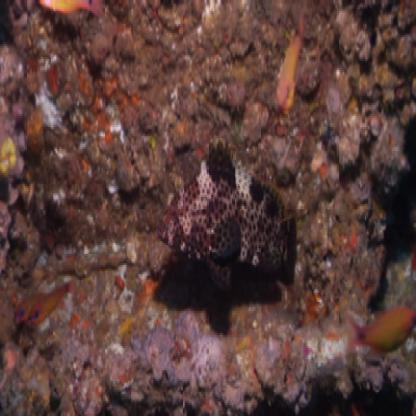Serranidae -Groupers-: (155, 133, 299, 292)
